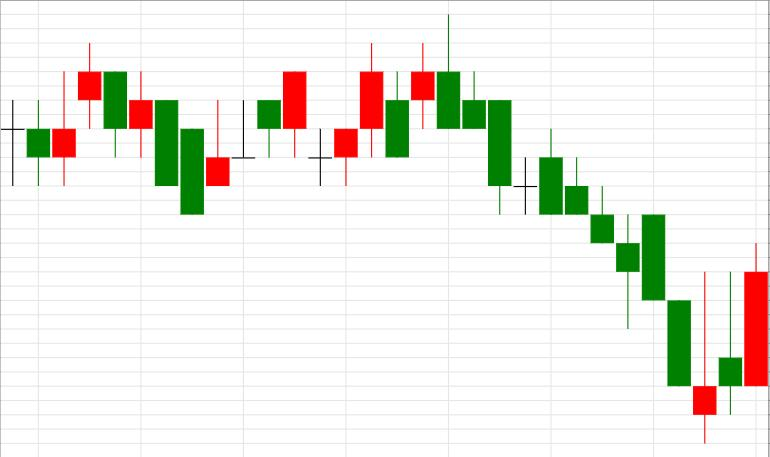inverse_hammer_rise: (437, 14, 717, 444)
